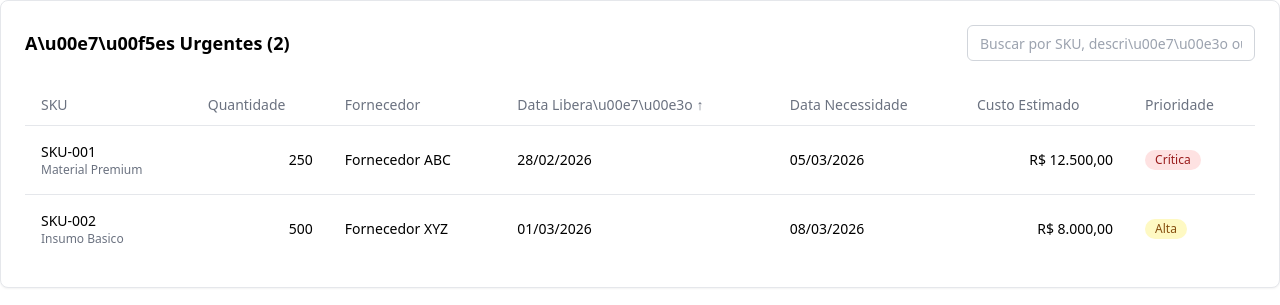
Test: UrgentActionsTable › should filter actions by search term
Type "Premium" into the field with placeholder "Buscar por SKU, descri\\u00e7\\u00e3o ou fornecedor..." at (1111, 43), box top-left (967, 25), bottom-right (1255, 61)
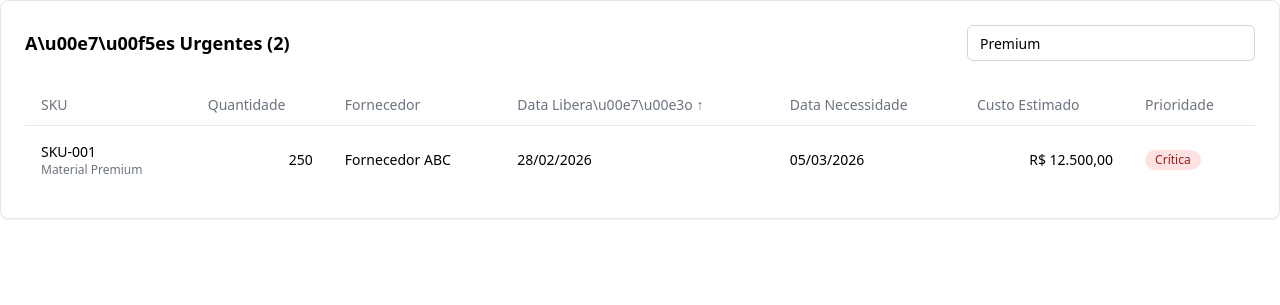
Expected: the text "SKU-001" is shown, top-left (41, 142), bottom-right (96, 160)
Expected: the text "SKU-002" is gone
